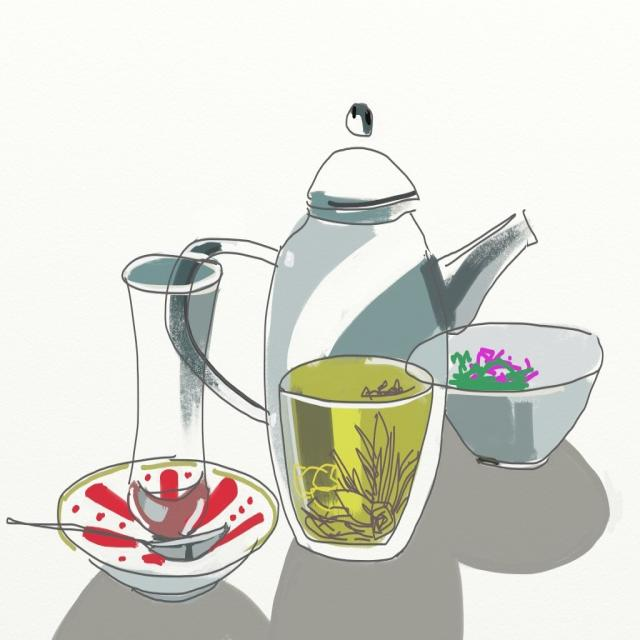Tea: (278, 354, 433, 544)
